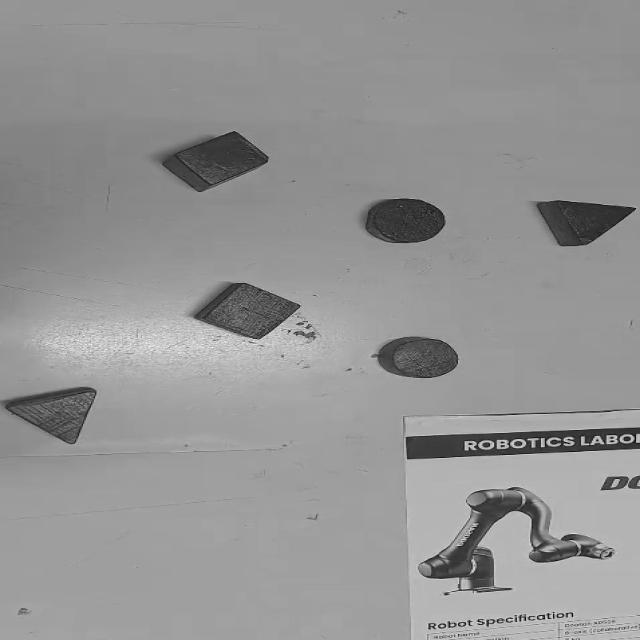bcircle: (364, 198, 447, 244), (376, 337, 459, 378)
btriangle: (162, 130, 272, 193), (194, 281, 303, 340), (559, 201, 634, 246), (536, 201, 582, 248)
rtriangle: (0, 386, 101, 445)
